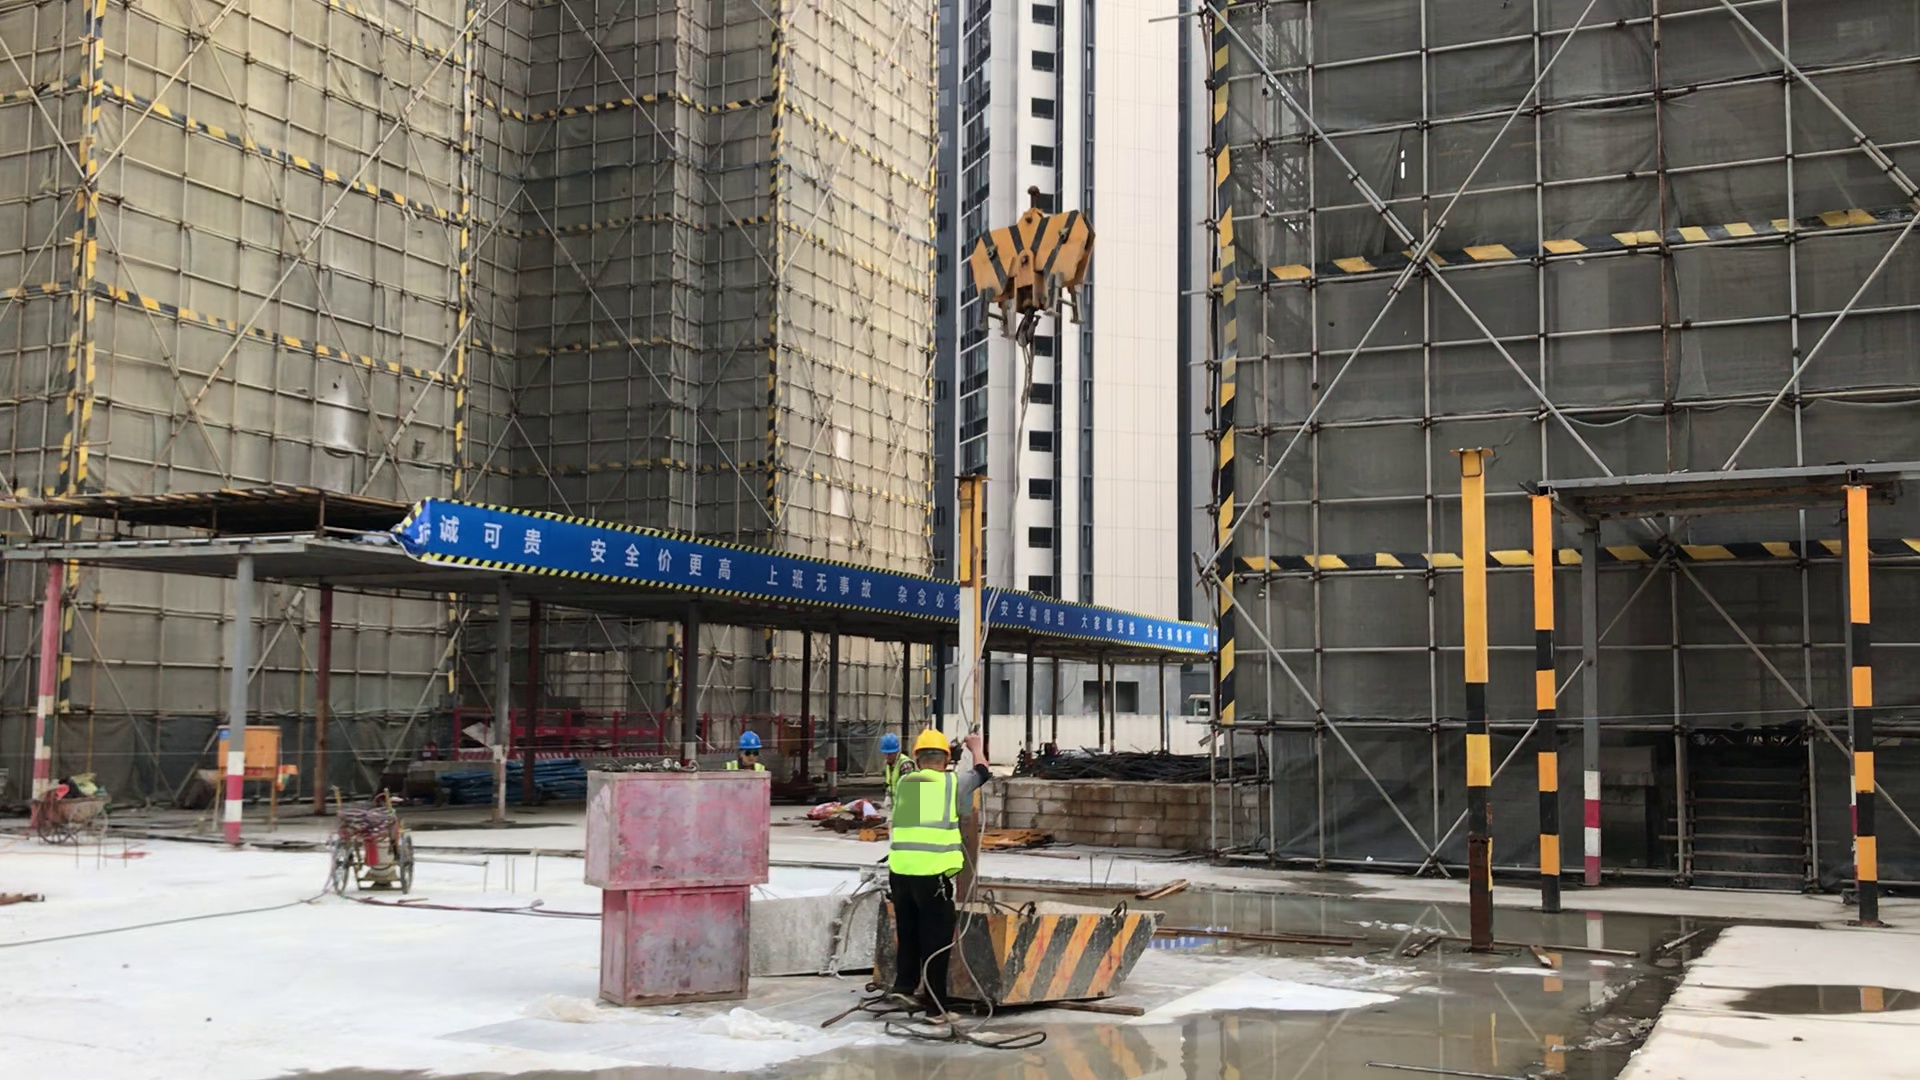ebox: (214, 719, 285, 784)
fence: (459, 704, 821, 763)
handcart: (26, 787, 123, 848)
helmet: (912, 729, 955, 758), (732, 733, 764, 749), (880, 733, 902, 753)
hook: (970, 178, 1118, 342)
hopper: (860, 898, 1188, 1013)
person: (888, 734, 978, 1015), (875, 730, 913, 807), (724, 728, 774, 778)
slogan: (429, 496, 1215, 649)
vest: (892, 776, 963, 876), (725, 760, 767, 773)
